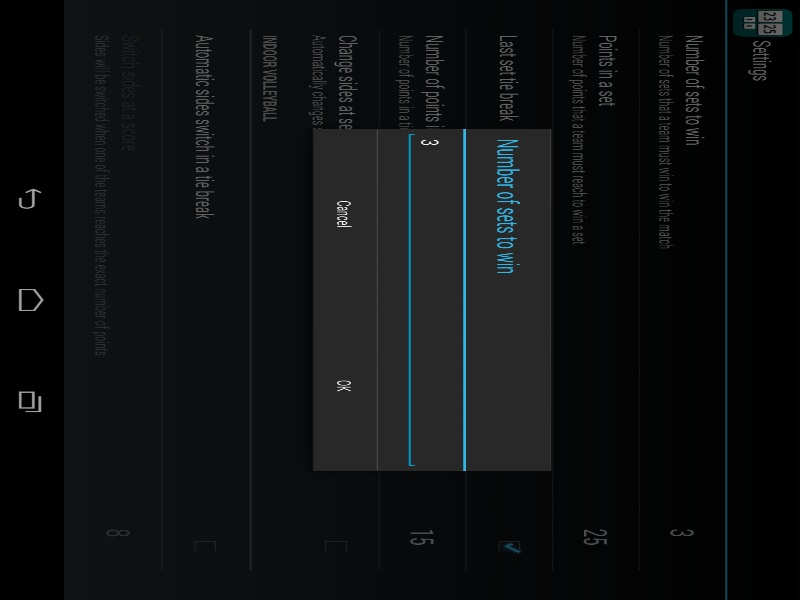Button: (274, 198, 639, 228)
